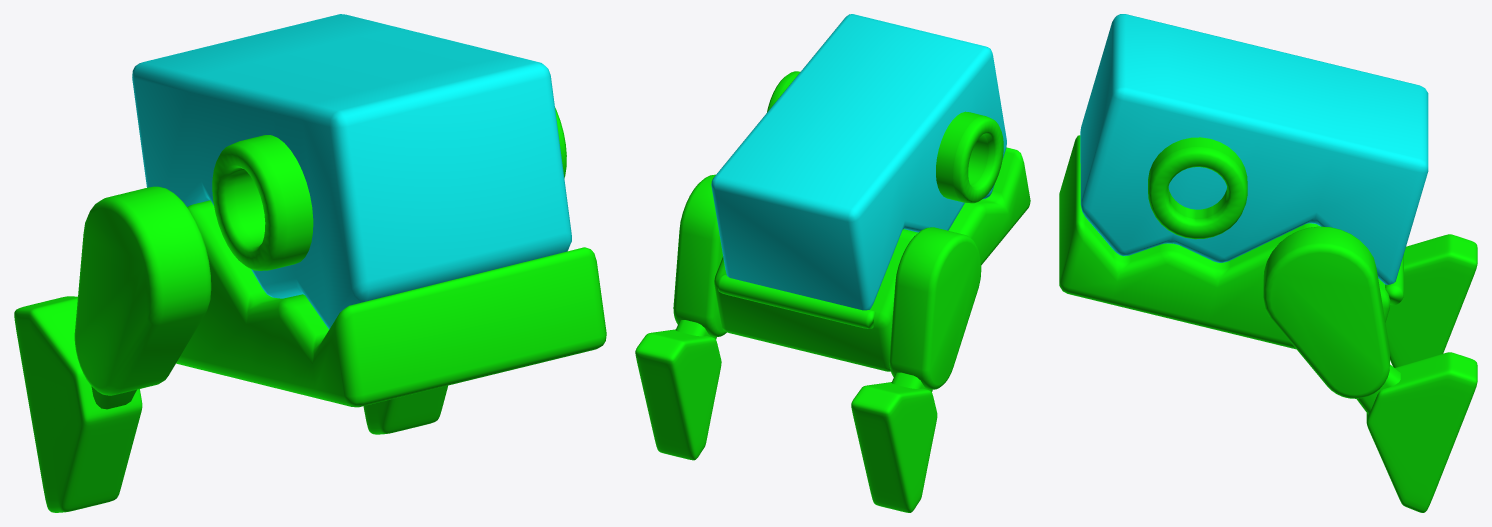
The picture shows the model from 3 angles, left to right: view 1: azimuth 30°, elevation 25°; view 2: azimuth 150°, elevation 25°; view 3: azimuth 270°, elevation 25°; orthographic projection. The views are drawn at different scales.
Parts seen in each view (by area): view 1: Top_Jaw, Lower_Jaw, Thighs_Left, Feet_Left, Eyes, Feet_Right; view 2: Top_Jaw, Lower_Jaw, Thighs_Left, Feet_Left, Feet_Right, Thighs_Right, Eyes, Hinge; view 3: Top_Jaw, Lower_Jaw, Thighs_Right, Feet_Right, Feet_Left, Eyes, Shin_Right, Hinge.
Part boxes in pixels (bbox=[...]): Top_Jaw: bbox=[132, 14, 571, 329]; Lower_Jaw: bbox=[176, 200, 606, 407]; Thighs_Left: bbox=[74, 186, 211, 395]; Feet_Left: bbox=[14, 296, 142, 512]; Eyes: bbox=[212, 107, 566, 270]; Feet_Right: bbox=[363, 385, 447, 434]; Top_Jaw: bbox=[711, 14, 1006, 310]; Lower_Jaw: bbox=[714, 147, 1030, 371]; Thighs_Left: bbox=[889, 227, 981, 389]; Feet_Left: bbox=[851, 382, 937, 512]; Feet_Right: bbox=[635, 329, 721, 460]; Thighs_Right: bbox=[673, 174, 726, 336]; Eyes: bbox=[767, 71, 1003, 203]; Hinge: bbox=[717, 274, 875, 328]; Top_Jaw: bbox=[1080, 14, 1428, 284]; Lower_Jaw: bbox=[1059, 135, 1390, 349]; Thighs_Right: bbox=[1263, 226, 1389, 398]; Feet_Right: bbox=[1366, 352, 1477, 512]; Feet_Left: bbox=[1385, 234, 1477, 367]; Eyes: bbox=[1148, 137, 1247, 239]; Shin_Right: bbox=[1356, 364, 1400, 414]; Hinge: bbox=[1385, 254, 1403, 305].
Bounding box in the file's own units: 2.03 × 2.66 × 2.55.
